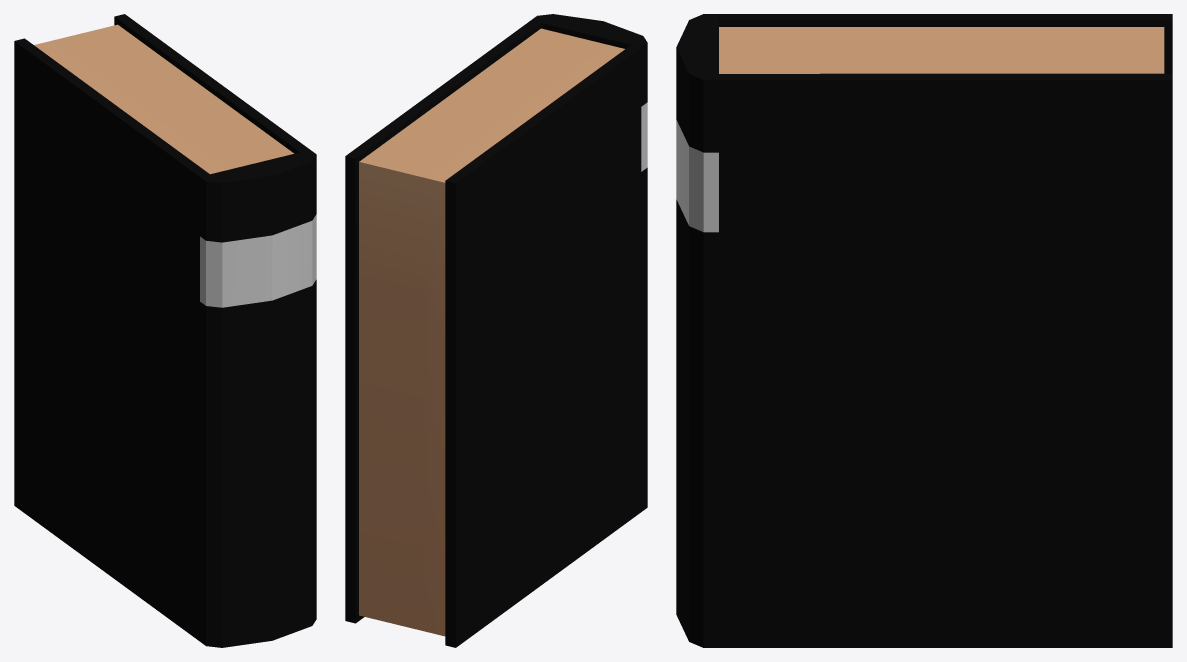
The model's file is Book_black_B.fbx.
3 renders of one model, left to right at view 1: azimuth 30°, elevation 25°; view 2: azimuth 150°, elevation 25°; view 3: azimuth 270°, elevation 25°, orthographic. The views are drawn at different scales.
Visible parts, largest first — view 1: Book_black_B; view 2: Book_black_B; view 3: Book_black_B.
Part boxes in pixels (<box>): Book_black_B: <box>14,14,316,647</box>; Book_black_B: <box>345,14,647,647</box>; Book_black_B: <box>676,14,1172,647</box>.
Bounding box in the file's own units: 6.32 × 25.38 × 20.08.
